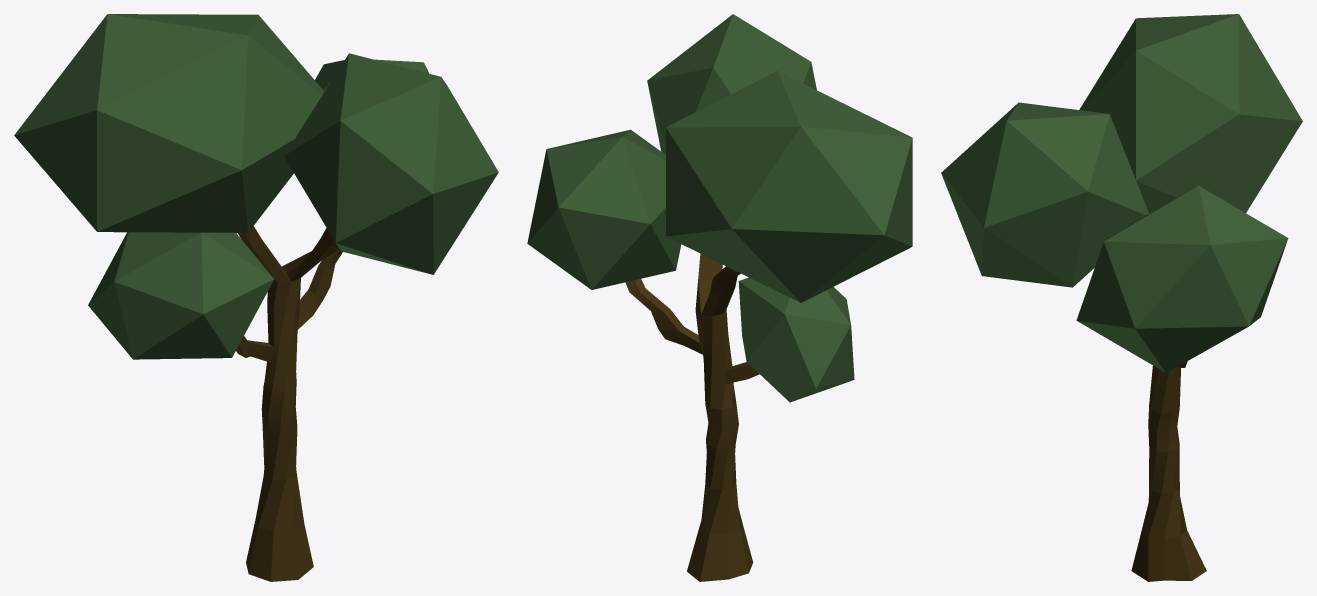
Rendered from Tree_1.fbx.
The picture shows the model from 3 angles, left to right: view 1: azimuth 30°, elevation 25°; view 2: azimuth 150°, elevation 25°; view 3: azimuth 270°, elevation 25°; orthographic projection. The views are drawn at different scales.
Parts seen in each view (by area): view 1: Tree_1; view 2: Tree_1; view 3: Tree_1.
Boxes of the visible parts, left/top/right/bottom form: Tree_1: left=14, top=14, right=498, bottom=581; Tree_1: left=527, top=14, right=912, bottom=581; Tree_1: left=941, top=14, right=1302, bottom=581.
Bounding box in the file's own units: 507 × 659 × 433.
